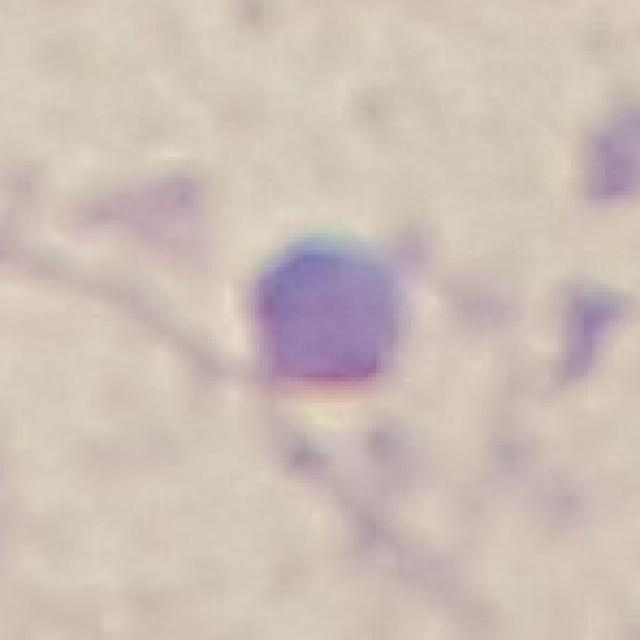non-sperm: (246, 240, 410, 385)
